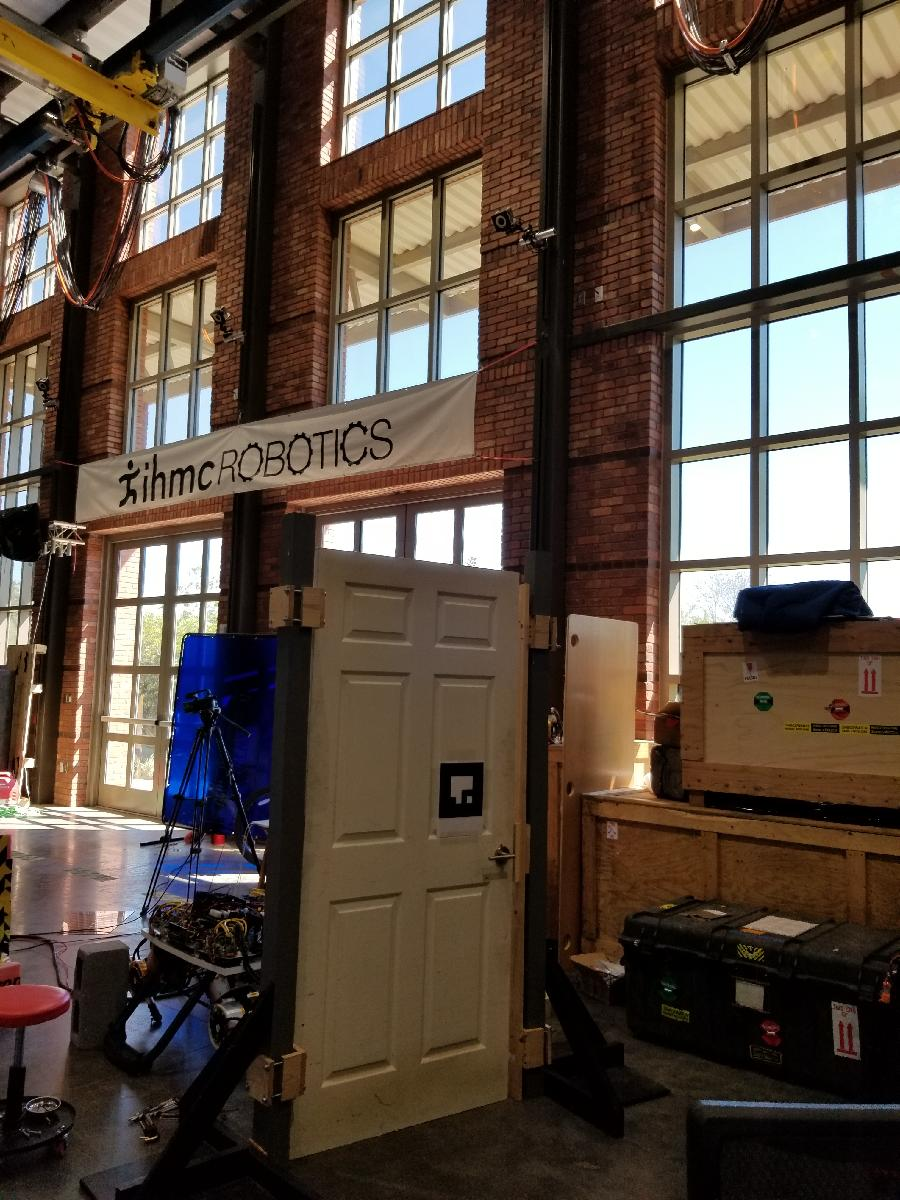door: (287, 545, 529, 1165)
doorHandle: (486, 841, 515, 872)
